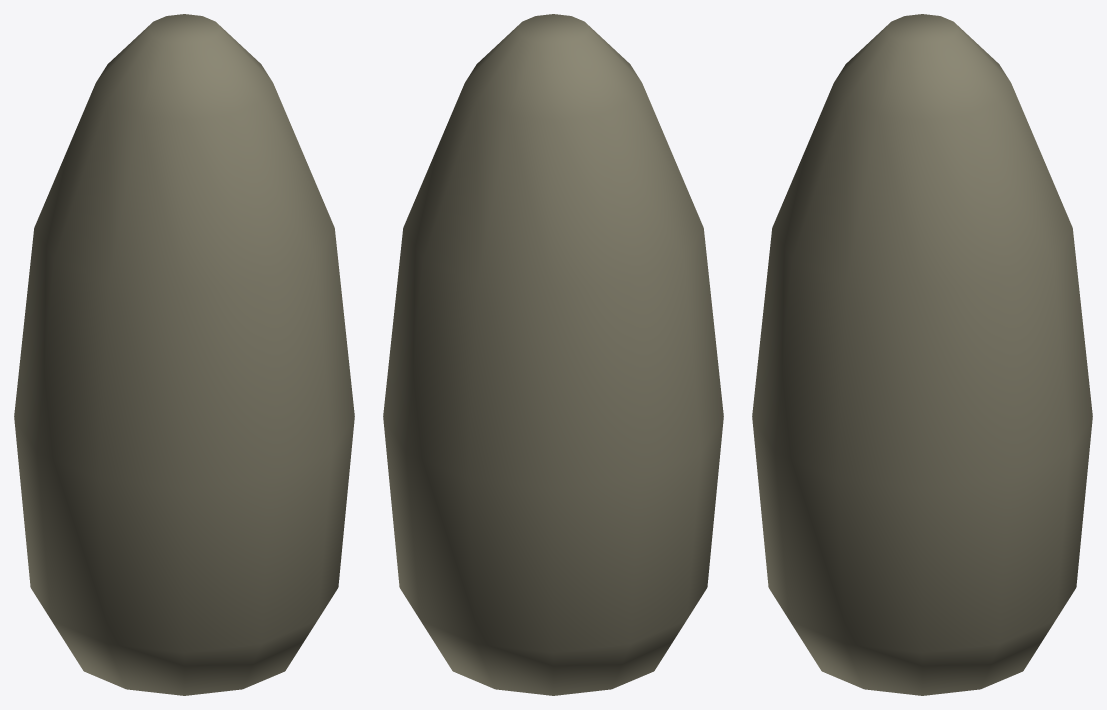
The model's file is egg.fbx.
The picture shows the model from 3 angles, left to right: view 1: azimuth 30°, elevation 25°; view 2: azimuth 150°, elevation 25°; view 3: azimuth 270°, elevation 25°; orthographic projection.
Visible parts, largest first — view 1: egg; view 2: egg; view 3: egg.
Boxes of the visible parts, x1=… form: egg: x1=14, y1=14, x2=354, y2=695; egg: x1=383, y1=14, x2=723, y2=695; egg: x1=752, y1=14, x2=1092, y2=695.
Bounding box in the file's own units: 20 × 40 × 20.
